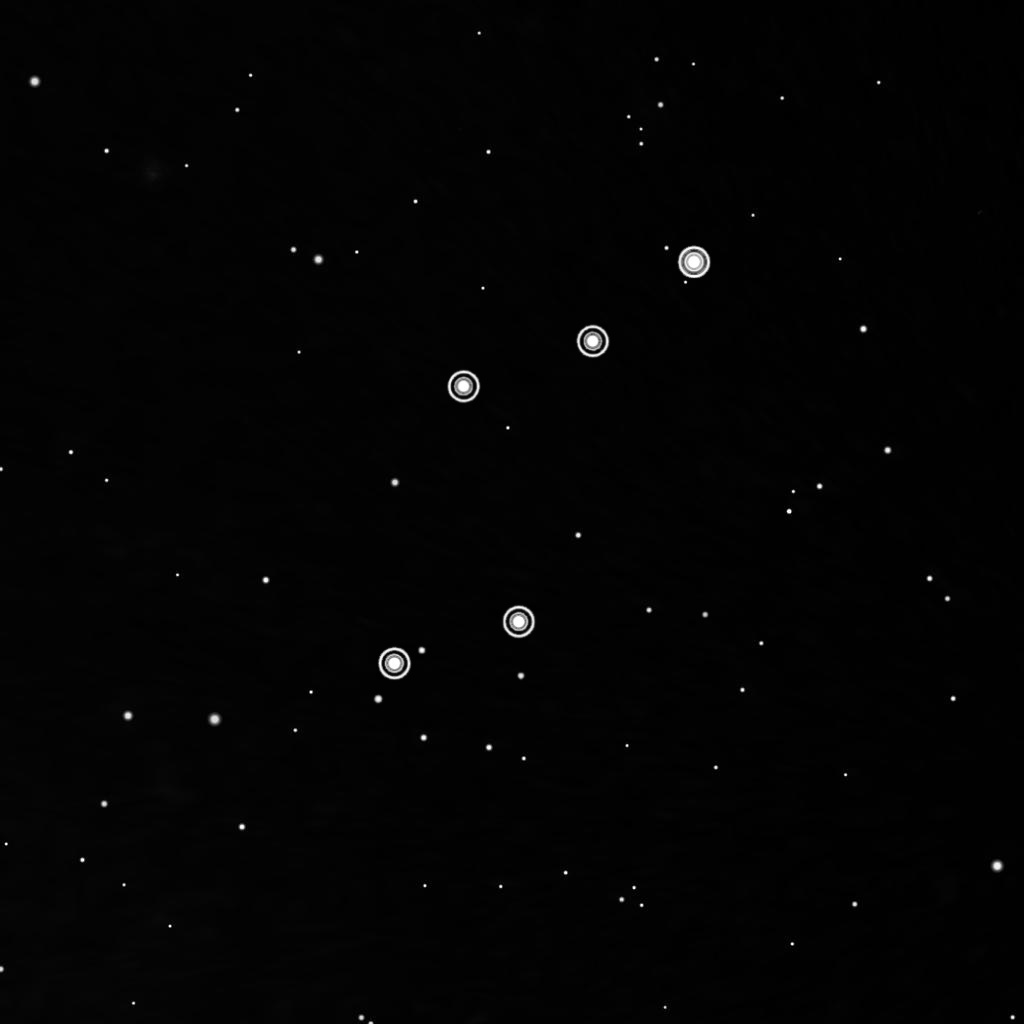lyra: (364, 238, 719, 692)
